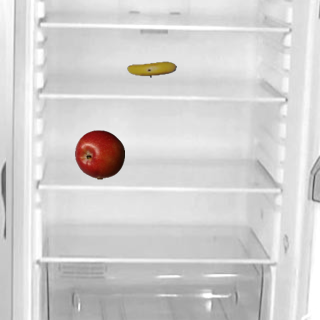Apple Braeburn: (74, 129, 124, 179)
Banana: (126, 44, 176, 94)
